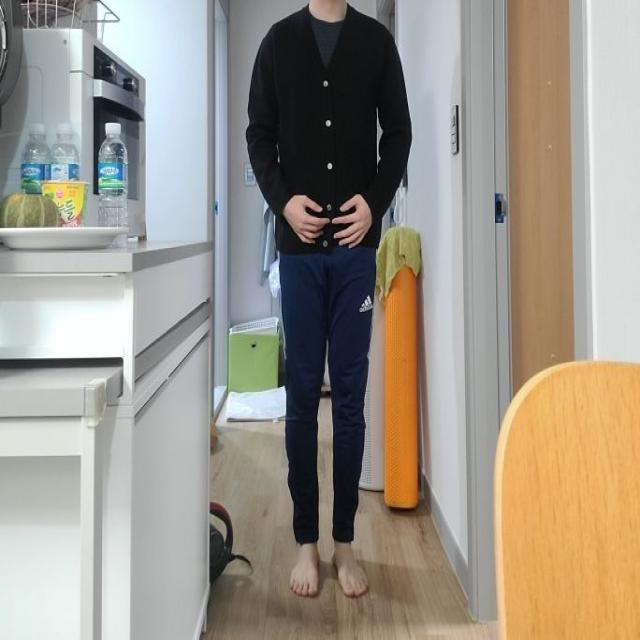cardigan: (247, 3, 412, 245)
trainingpants: (272, 227, 376, 539)
